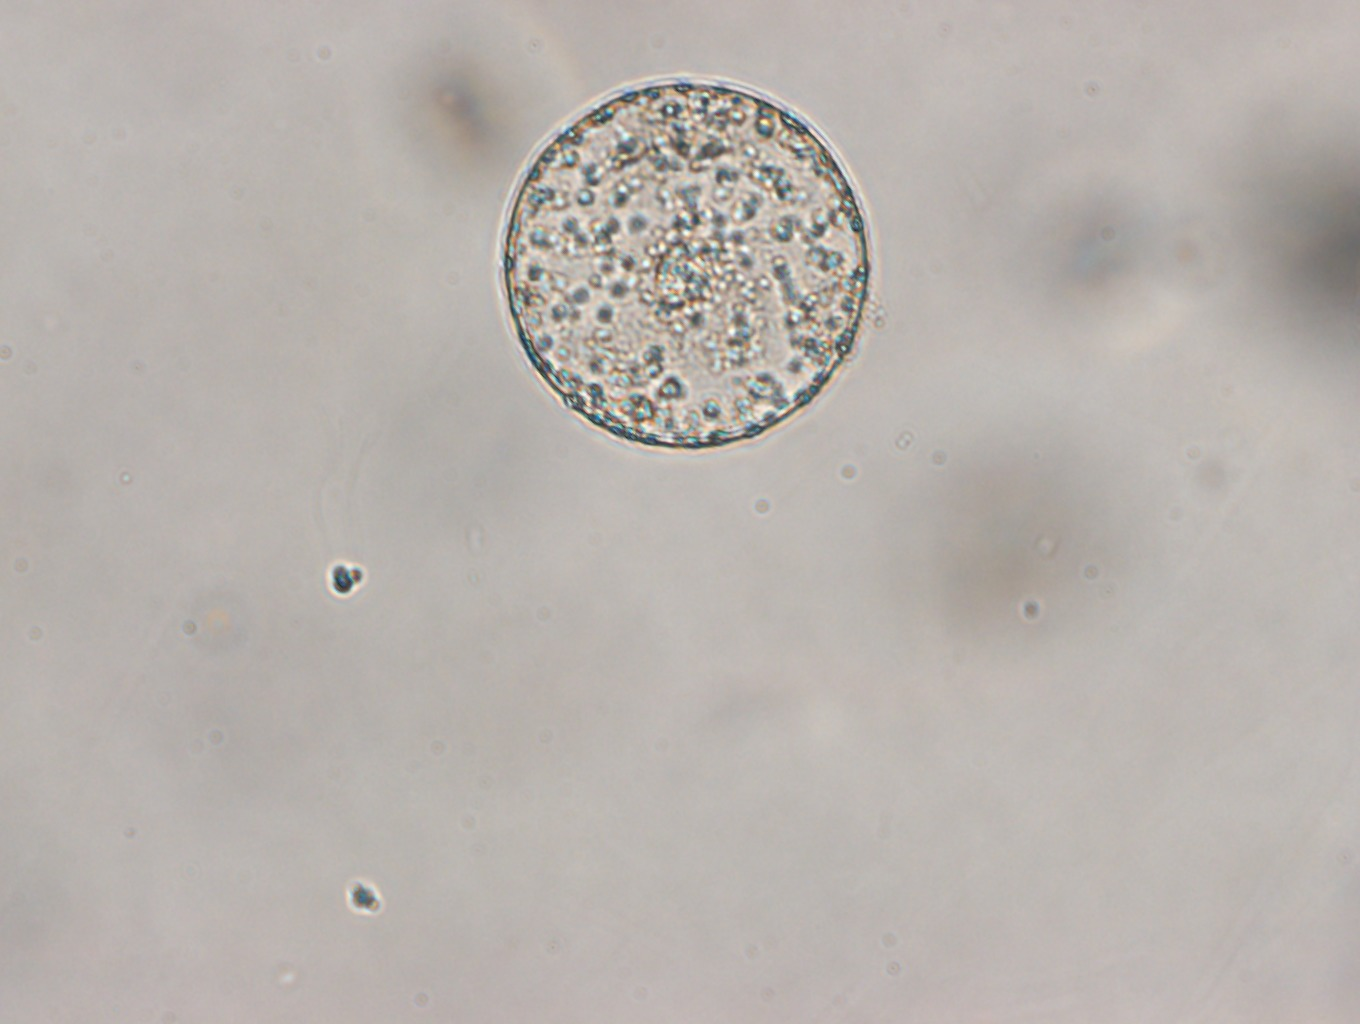coscinodiscus: (493, 77, 875, 455)
